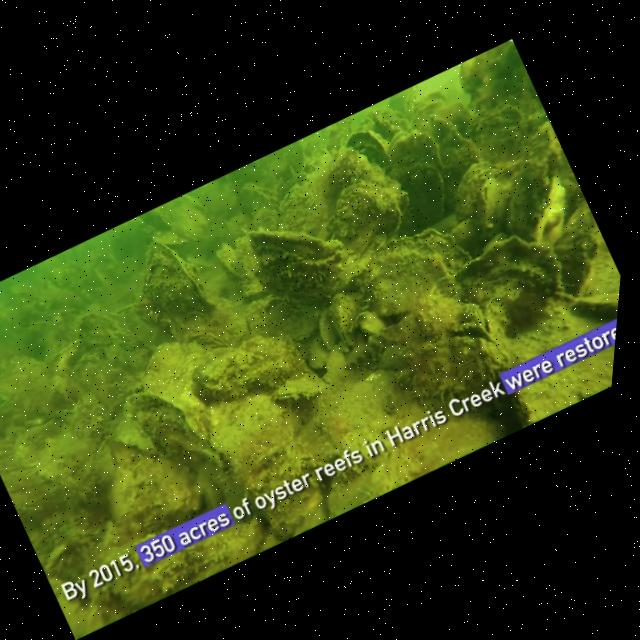Oyster-Closed: (114, 225, 224, 341), (459, 170, 529, 241)
Oyster-Indeterminate: (77, 474, 280, 633), (373, 302, 540, 461), (335, 199, 492, 339), (437, 213, 578, 340), (176, 310, 317, 426), (116, 368, 231, 489), (306, 160, 418, 266), (201, 379, 311, 485), (116, 312, 216, 410), (295, 141, 388, 217), (375, 119, 458, 201), (508, 172, 590, 254), (85, 457, 164, 535), (62, 337, 140, 412), (432, 147, 510, 220), (504, 111, 576, 189), (312, 278, 380, 355), (392, 155, 458, 227), (0, 345, 63, 420), (558, 271, 621, 339), (68, 298, 131, 360), (436, 203, 497, 261), (340, 115, 397, 174), (35, 328, 96, 377), (101, 315, 156, 369), (84, 440, 129, 488), (308, 302, 351, 351), (297, 332, 339, 376), (68, 464, 107, 508), (353, 303, 392, 338)
Oyster-Open: (233, 194, 368, 326), (441, 34, 543, 131), (268, 358, 338, 422), (283, 445, 342, 497), (177, 318, 234, 370), (36, 536, 82, 578)
